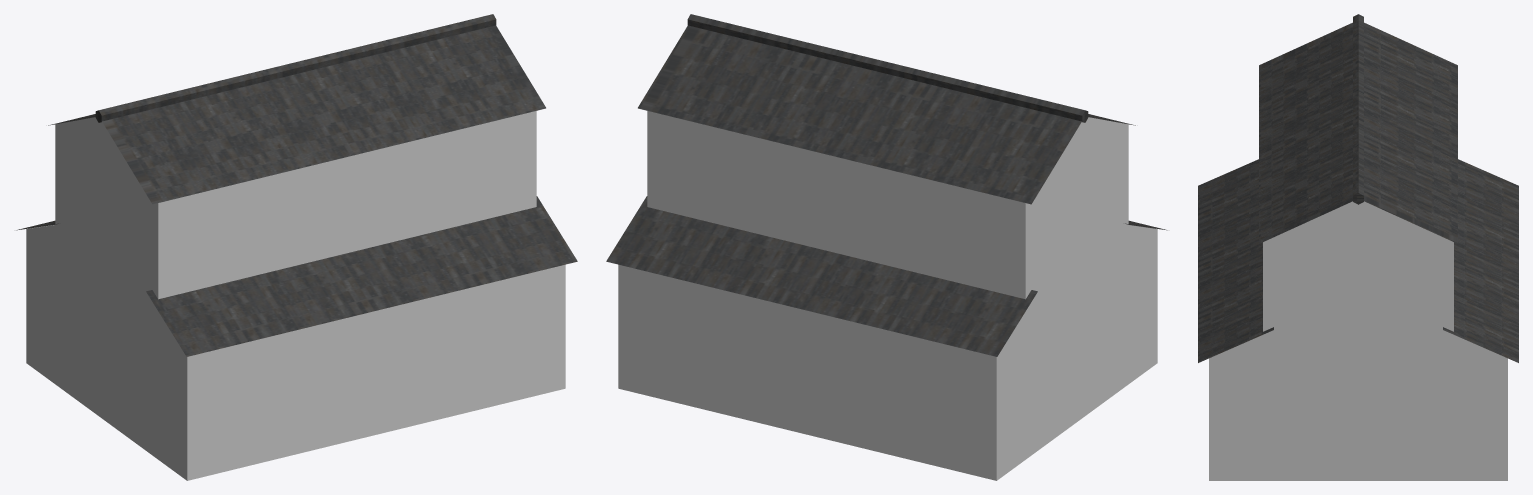
The model's file is Front_House_1.fbx.
The picture shows the model from 3 angles, left to right: view 1: azimuth 30°, elevation 25°; view 2: azimuth 150°, elevation 25°; view 3: azimuth 270°, elevation 25°; orthographic projection. The views are drawn at different scales.
Visible parts, largest first — view 1: Cube.003; view 2: Cube.003; view 3: Cube.003.
Boxes of the visible parts, left/top/right/bottom form: Cube.003: left=16, top=14, right=577, bottom=480; Cube.003: left=606, top=14, right=1167, bottom=480; Cube.003: left=1198, top=14, right=1518, bottom=480.
Size of the model in its own units: 866 by 658 by 656.
2 materials, 1 textured.
